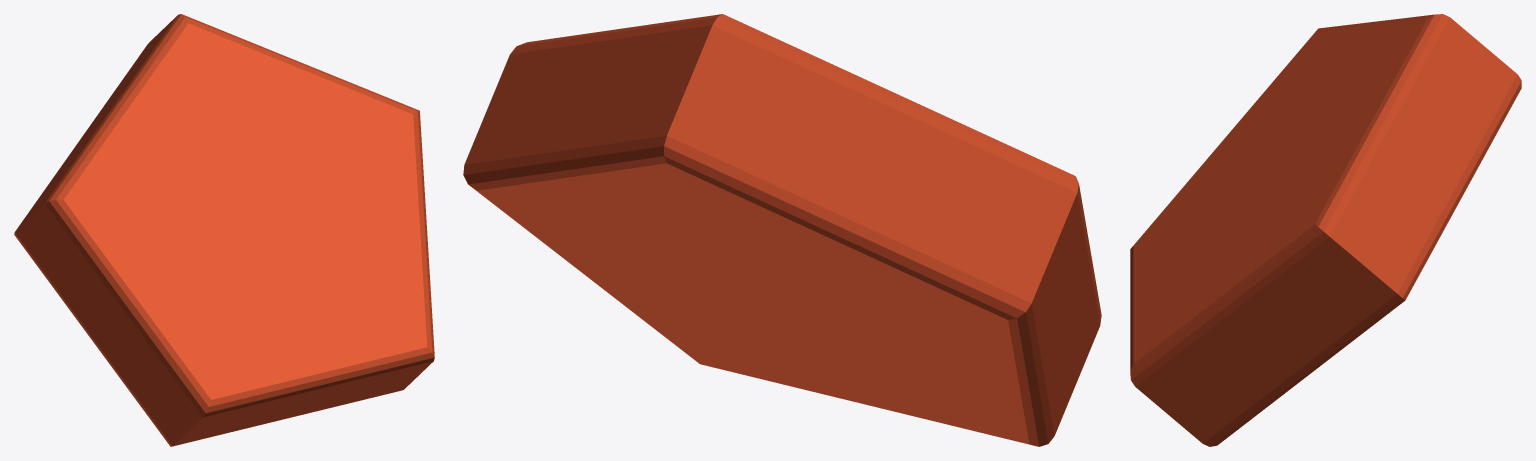
The model's file is pentagon.glb.
The picture shows the model from 3 angles, left to right: view 1: azimuth 30°, elevation 25°; view 2: azimuth 150°, elevation 25°; view 3: azimuth 270°, elevation 25°; orthographic projection. The views are drawn at different scales.
Size of the model in its own units: 1.26 by 1.06 by 1.02.
